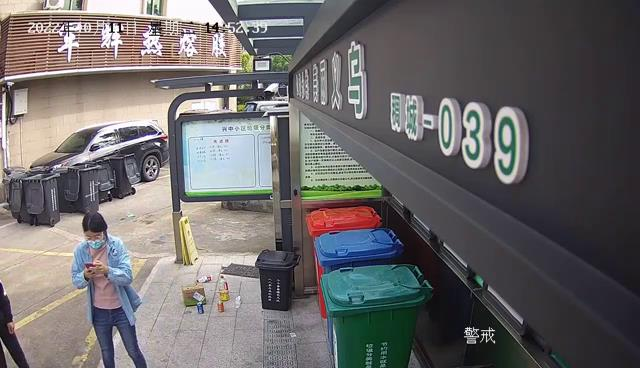lvzhipin: (196, 300, 204, 314), (217, 299, 224, 312)
suliaozhipin: (216, 273, 230, 302), (194, 273, 214, 283)
worker: (70, 209, 148, 368)
zhizhipin: (181, 284, 207, 307)
